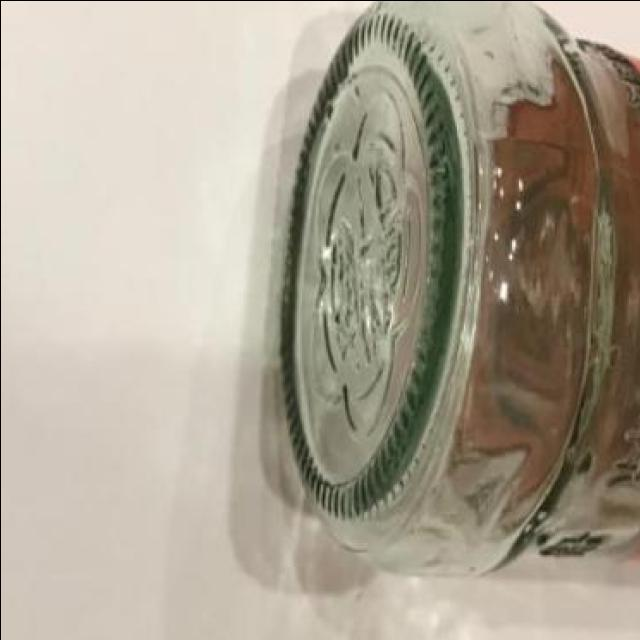kaca: (279, 0, 640, 609)
